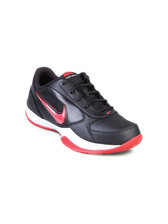shoes: (17, 61, 142, 153)
